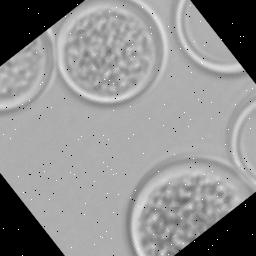picoshell: (128, 155, 254, 256), (59, 0, 169, 105), (175, 0, 245, 74), (0, 32, 55, 112), (228, 97, 256, 185)
